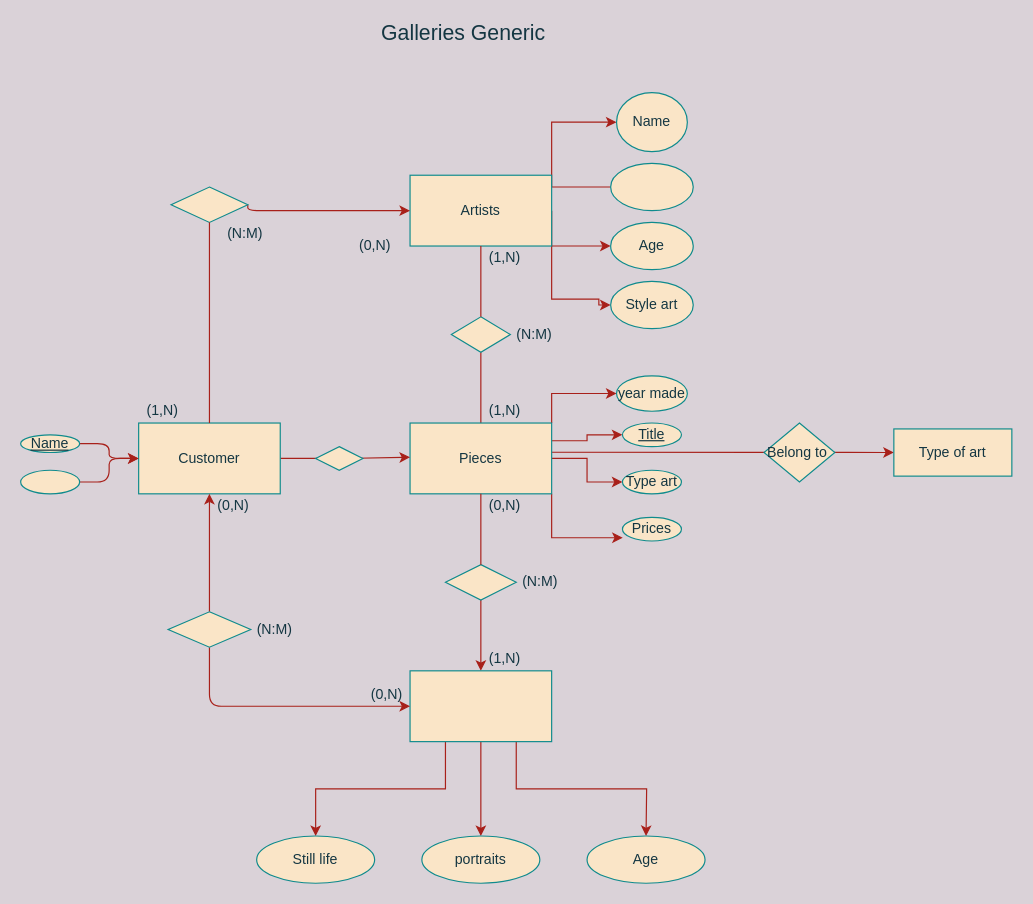
This 1033x904 diagram has some shape labels left out. The shapes that lost their labels are listed below. From the top down, each one's centre as x and y in pixels, then its label:
(x=209, y=204): Like Artist
(x=651, y=186): Birthplaces
(x=480, y=334): Have
(x=338, y=457): Buy
(x=49, y=481): Attribute
(x=480, y=581): Belonged
(x=209, y=629): Like arts
(x=480, y=706): Groups
